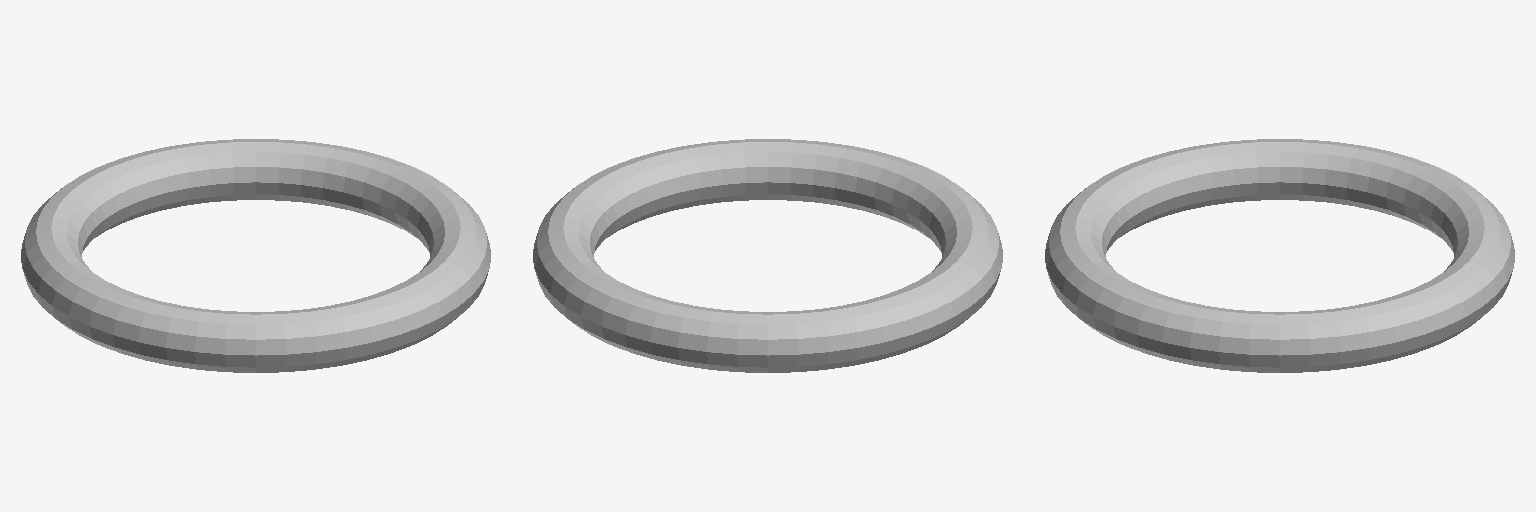
The picture shows the model from 3 angles: view 1: azimuth 30°, elevation 25°; view 2: azimuth 150°, elevation 25°; view 3: azimuth 270°, elevation 25°; orthographic projection.
Parts seen in each view (by area): view 1: トーラス; view 2: トーラス; view 3: トーラス.
Part boxes in pixels (left/top/right/bottom): トーラス: left=21, top=139, right=490, bottom=372; トーラス: left=533, top=139, right=1002, bottom=372; トーラス: left=1045, top=139, right=1514, bottom=372.
Bounding box in the file's own units: 2.3 × 0.2995 × 2.3.